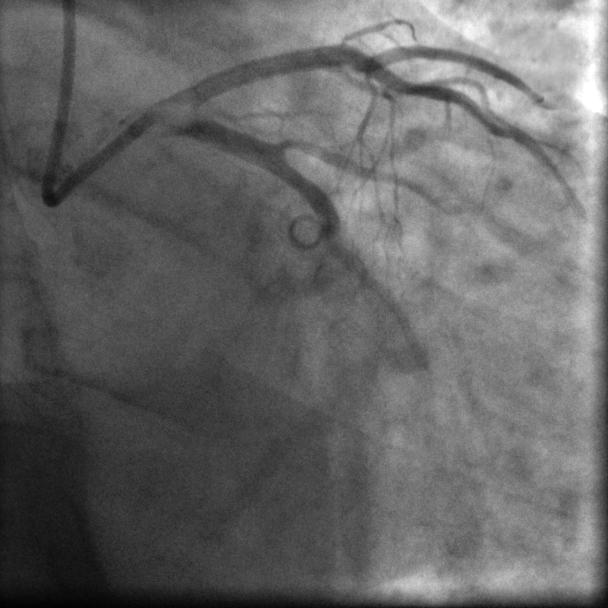Stenosis: (272, 127, 311, 162)
